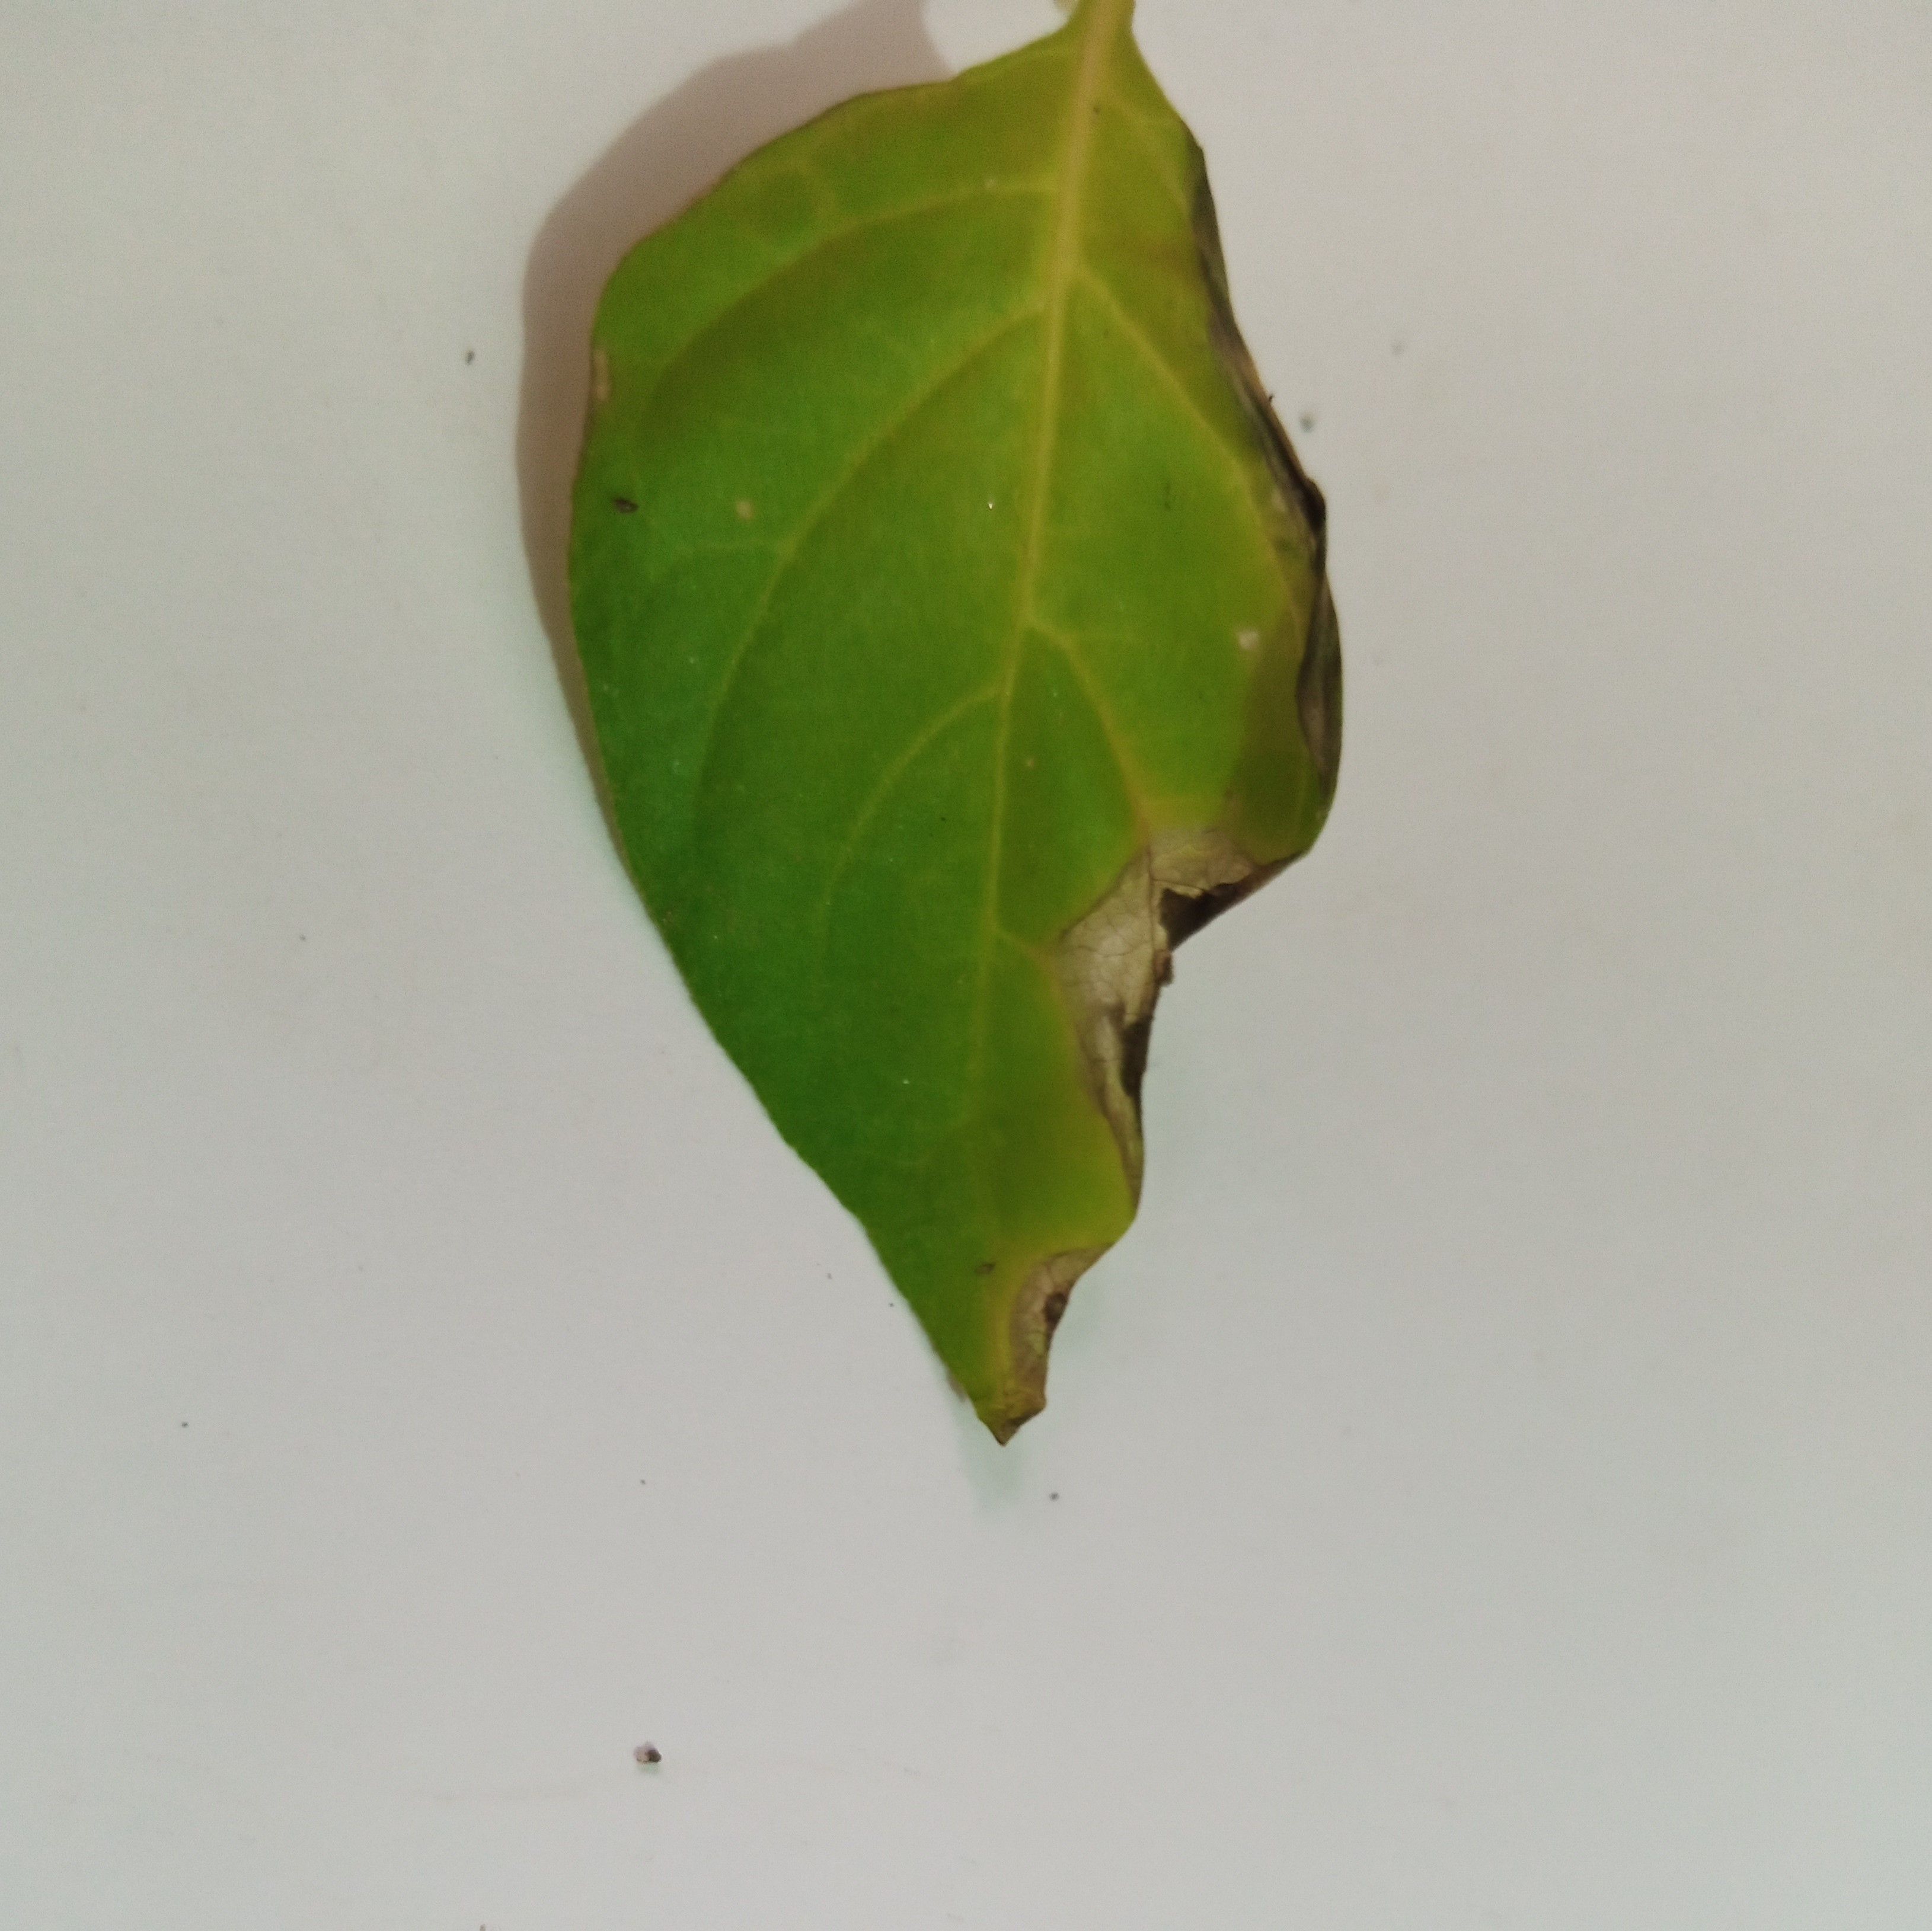Leaf: (421, 32, 1479, 1637)
